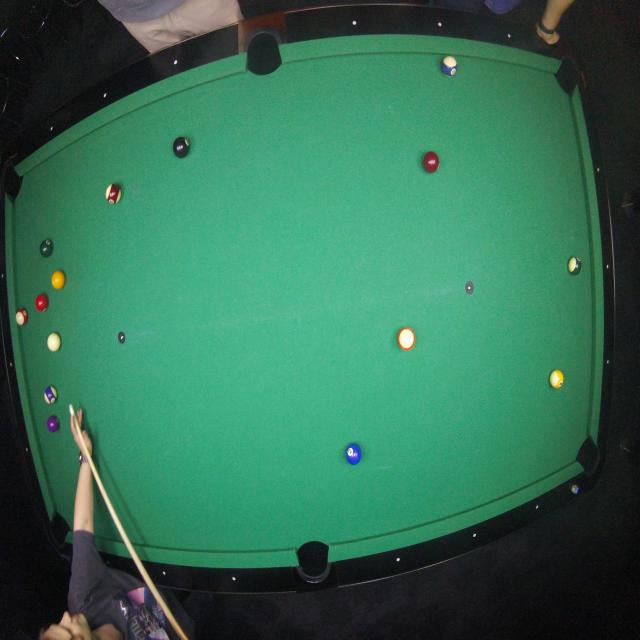cue ball: (47, 332, 62, 352)
other: (420, 148, 443, 178), (169, 134, 194, 160), (103, 179, 124, 208), (396, 325, 416, 354), (342, 440, 364, 466), (49, 266, 69, 293), (565, 254, 585, 279), (38, 234, 56, 260), (549, 369, 567, 392), (441, 55, 458, 79), (35, 294, 49, 313), (44, 385, 58, 404), (15, 309, 28, 327), (47, 414, 59, 432)
